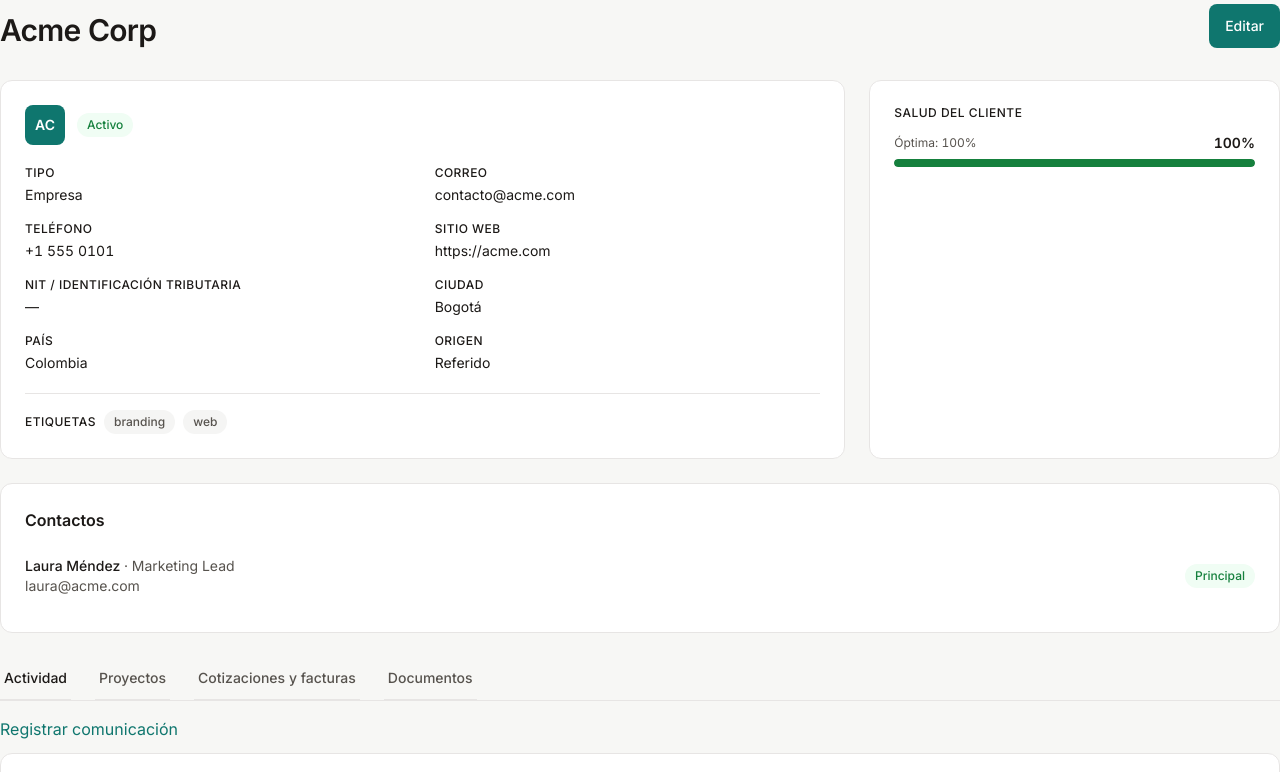
Test: HU-01.3 Ver detalle y editar cliente — pestañas › quotes & invoices tab shows the invoice with derived status, total and balance
Click the tab "Cotizaciones y facturas".
click(277, 679)  # box [194,657,360,701]
(page scrolled)
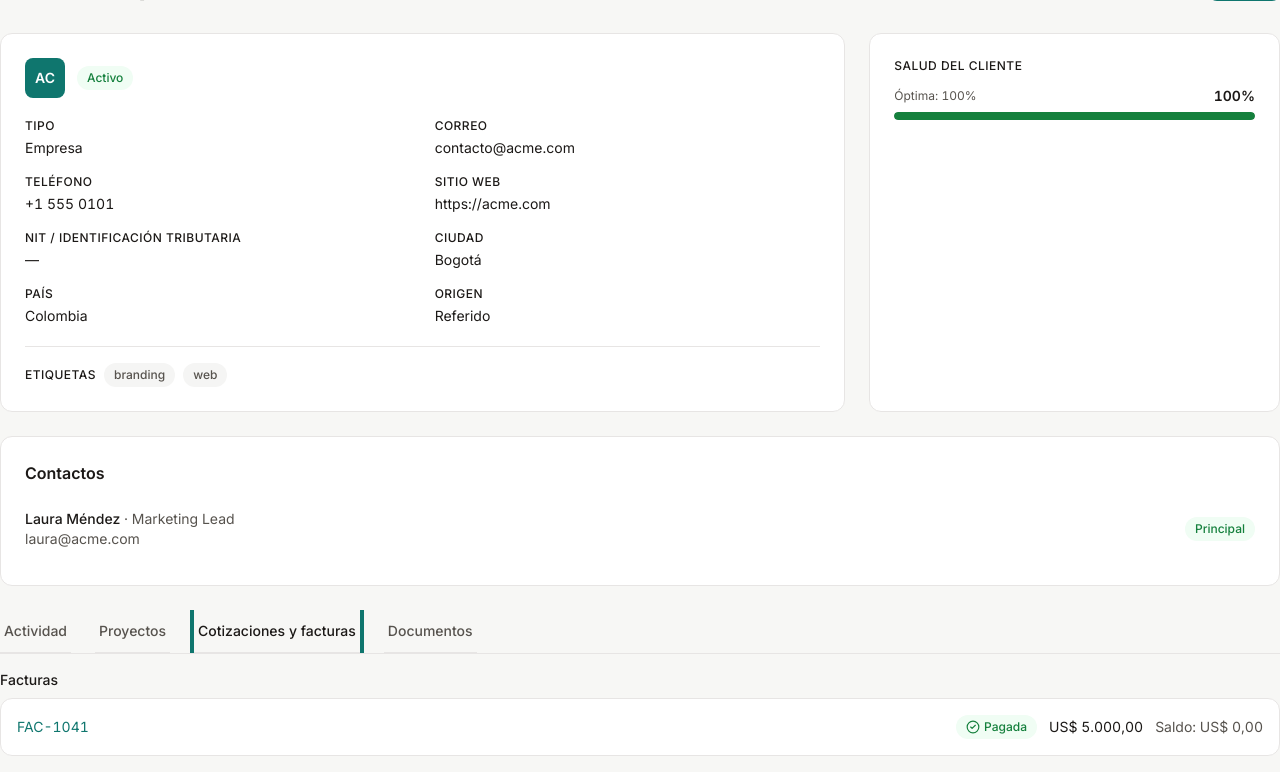
Now the text "Pagada" is shown, box [956,715,1037,739]
Now the text "Saldo: US$ 0,00" is shown, box [1155,717,1263,737]
